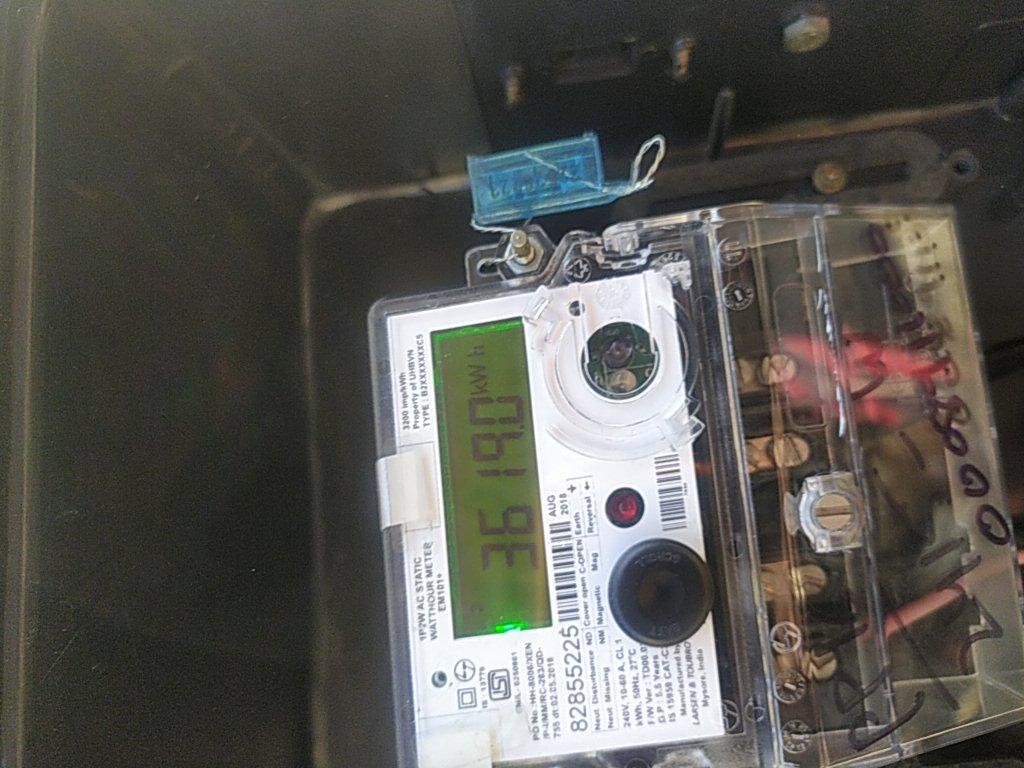.: (496, 350, 569, 368)
1: (454, 352, 494, 393)
2: (380, 355, 408, 394)
4: (258, 356, 304, 409)
7: (307, 358, 350, 399)
:: (410, 352, 452, 388)
